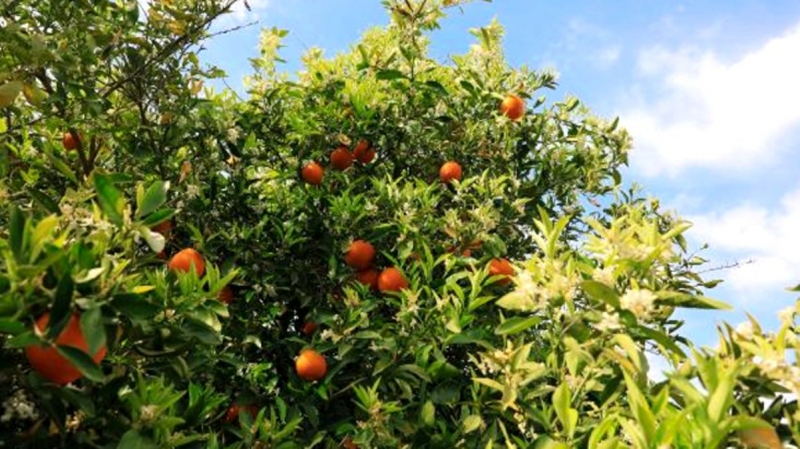portakal: (17, 277, 119, 398), (286, 338, 360, 401), (497, 90, 550, 142), (56, 115, 97, 170), (481, 259, 532, 301), (293, 153, 333, 201), (432, 153, 474, 195), (173, 245, 211, 285)
